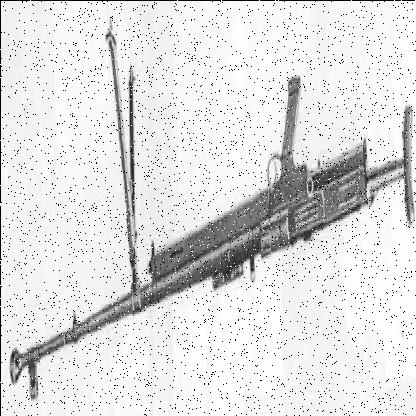rifle: (7, 48, 415, 410)
